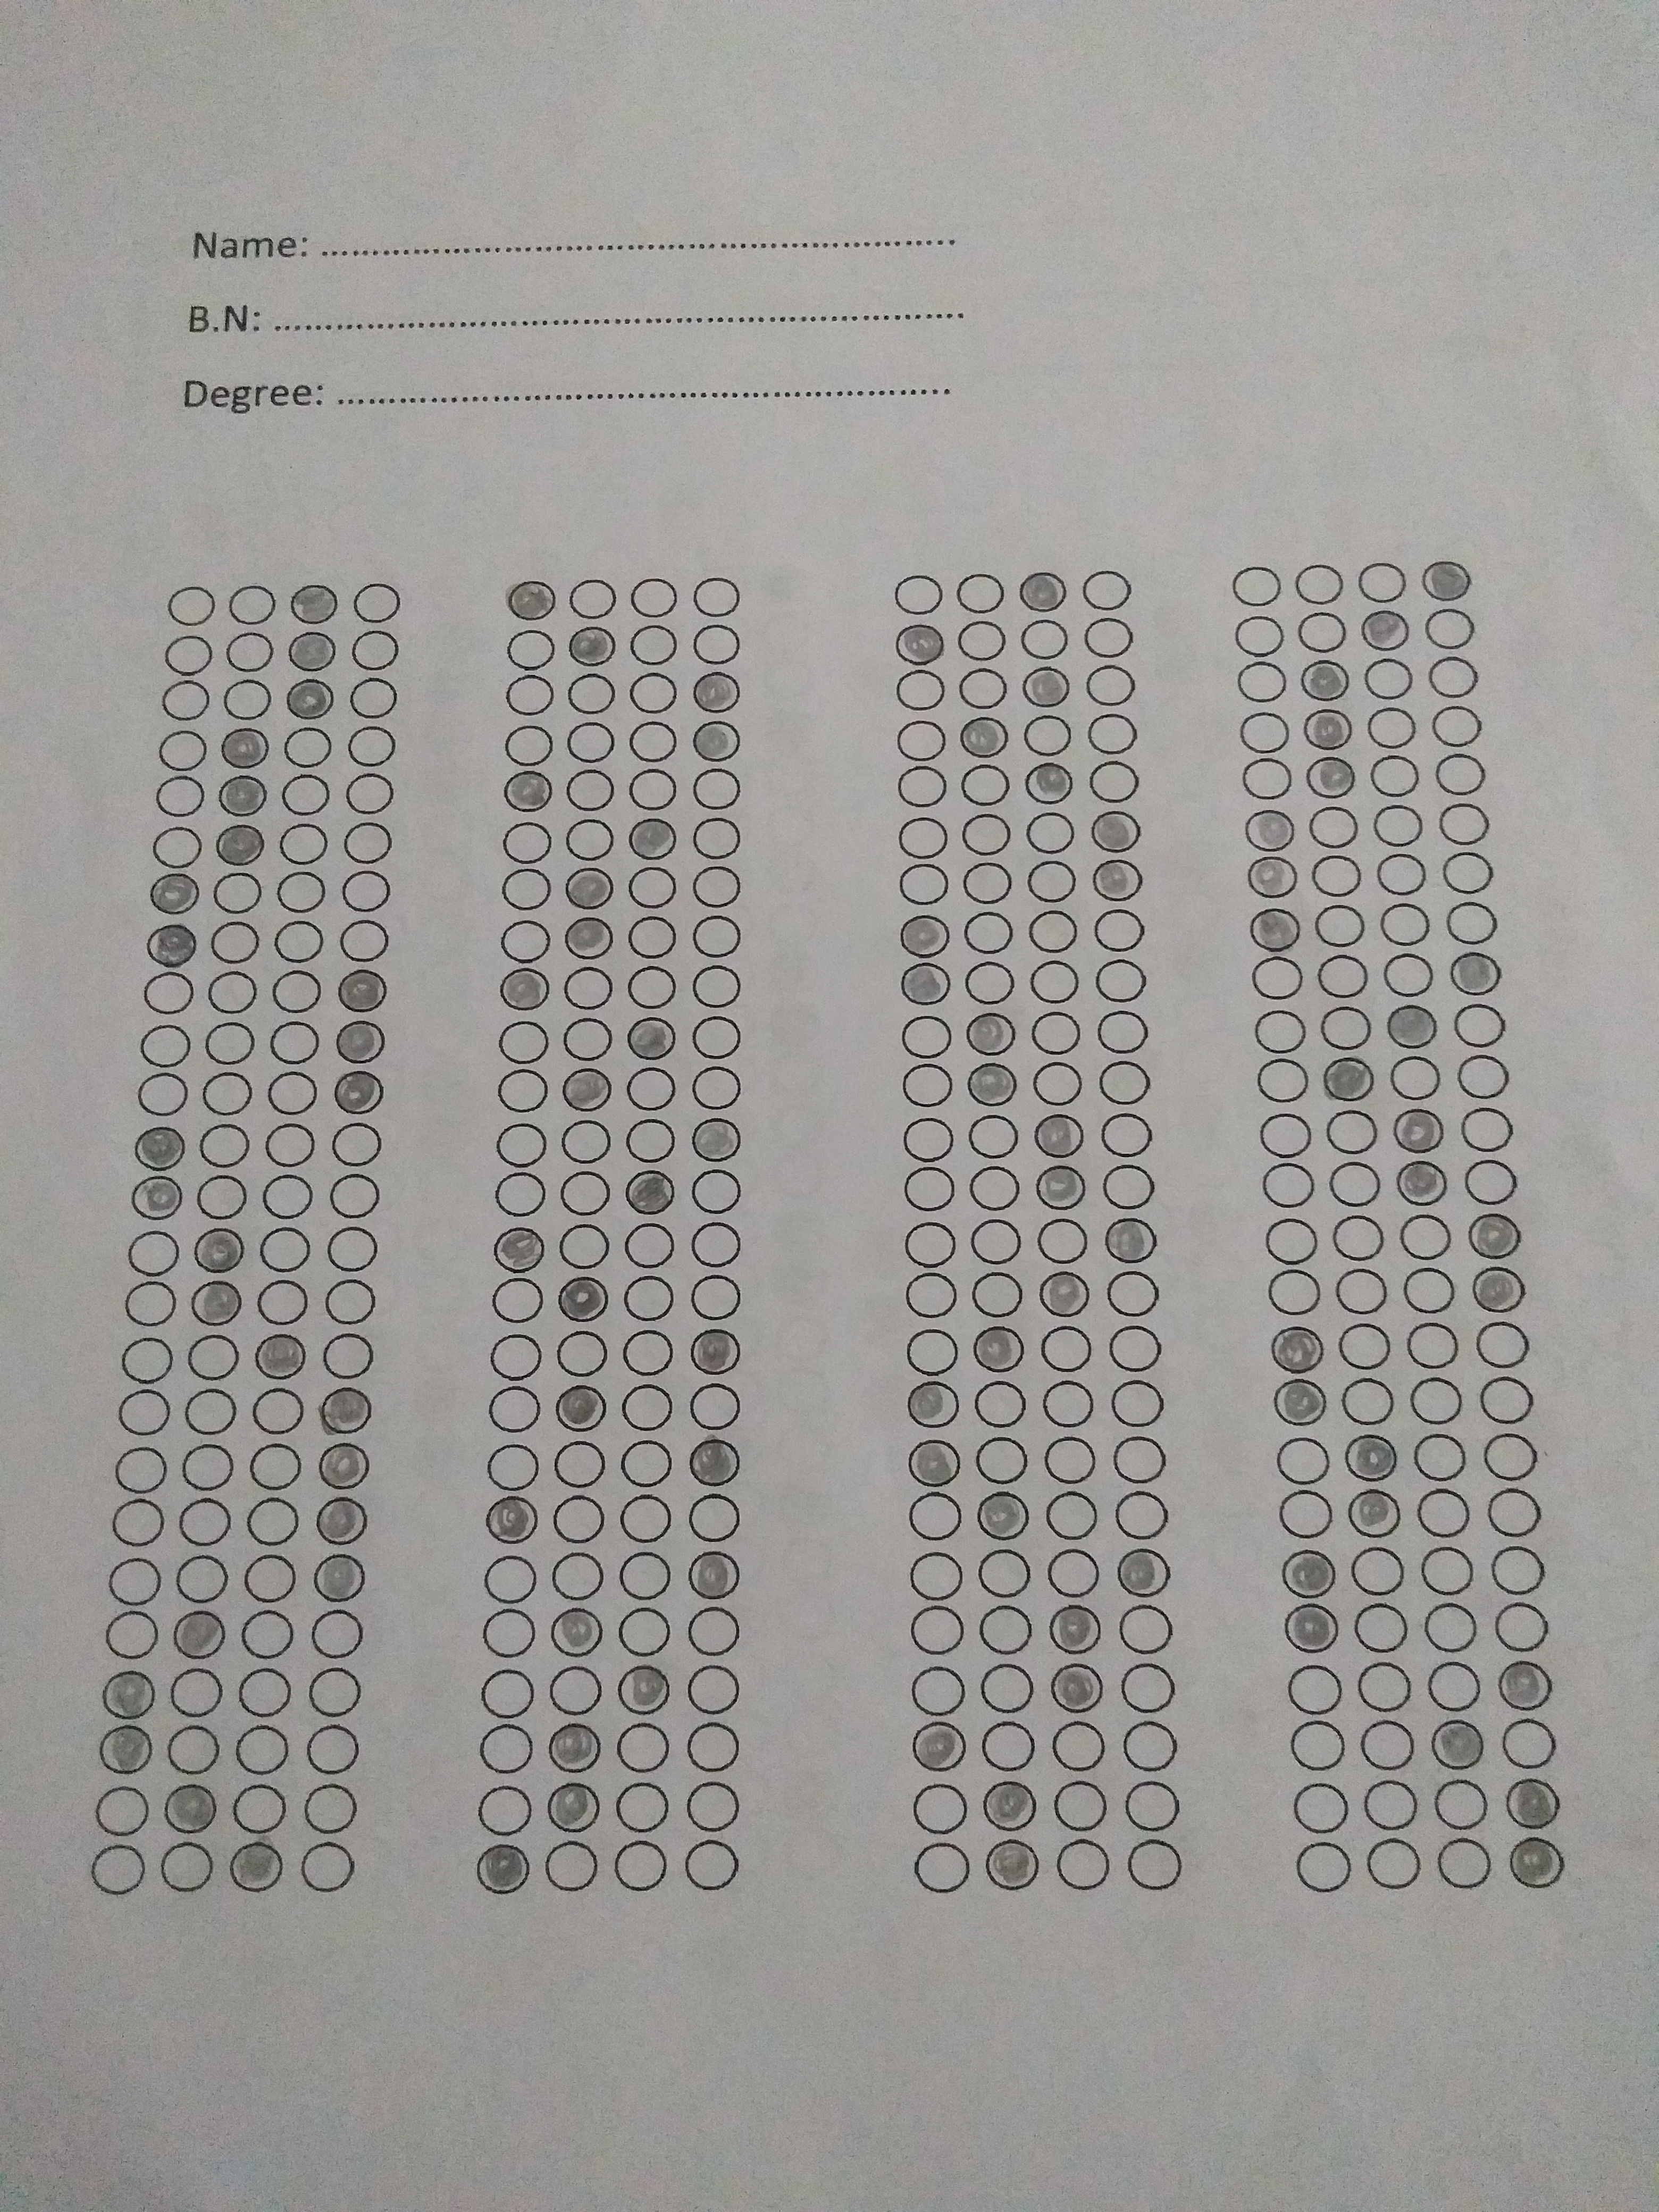not-c: (681, 1839, 742, 1898), (681, 1778, 744, 1834), (540, 1838, 603, 1893), (477, 1608, 537, 1662), (477, 1723, 537, 1777), (687, 1491, 742, 1547), (615, 1545, 671, 1601), (613, 1780, 671, 1834), (911, 1841, 971, 1893), (477, 1669, 540, 1717), (687, 1606, 742, 1660), (549, 1662, 605, 1716), (685, 1662, 741, 1716), (685, 1721, 742, 1773), (620, 1437, 676, 1489), (1127, 1838, 1183, 1890), (1436, 1777, 1488, 1832), (1366, 1838, 1422, 1890), (157, 1843, 216, 1892), (112, 1444, 171, 1493), (247, 1386, 307, 1435), (117, 1386, 176, 1435), (319, 1331, 378, 1379), (183, 1331, 242, 1379), (118, 1336, 178, 1385), (258, 1226, 317, 1275), (122, 1231, 181, 1280), (328, 1169, 387, 1217), (167, 1667, 227, 1716), (307, 1609, 366, 1658), (235, 1609, 295, 1658), (101, 1611, 160, 1660), (239, 1554, 298, 1602), (171, 1554, 230, 1602), (105, 1555, 164, 1604), (242, 1496, 301, 1545), (174, 1496, 234, 1545), (108, 1496, 167, 1545), (162, 1726, 221, 1775), (303, 1667, 362, 1716), (234, 1667, 293, 1716), (301, 1784, 361, 1832), (89, 1785, 148, 1834), (301, 1726, 361, 1775), (89, 1844, 148, 1893), (547, 1554, 606, 1602), (479, 1782, 532, 1836), (613, 1841, 667, 1893), (911, 1665, 965, 1717), (981, 1719, 1035, 1771), (1053, 1719, 1105, 1773), (1054, 1780, 1108, 1832), (1351, 1545, 1405, 1597), (1420, 1543, 1474, 1595), (1288, 1663, 1342, 1716), (1361, 1719, 1415, 1771), (1502, 1717, 1556, 1770), (1363, 1778, 1417, 1831), (551, 1494, 606, 1545), (978, 1602, 1033, 1653), (1478, 1374, 1534, 1425), (1490, 1545, 1546, 1595), (1493, 1602, 1549, 1653), (1356, 1662, 1412, 1712), (1290, 1721, 1345, 1771), (1293, 1782, 1349, 1832), (1436, 1838, 1492, 1888), (1295, 1841, 1351, 1892), (178, 1440, 235, 1489), (122, 1280, 179, 1329), (254, 1278, 312, 1327), (183, 1386, 242, 1433), (321, 1277, 380, 1324), (244, 1442, 303, 1489), (228, 1784, 288, 1831), (230, 1728, 289, 1775), (298, 1843, 357, 1890), (981, 1662, 1033, 1714), (619, 1608, 673, 1658), (1115, 1489, 1169, 1540), (1119, 1602, 1173, 1653), (1121, 1663, 1175, 1714), (1122, 1721, 1176, 1771), (913, 1784, 967, 1834), (1126, 1780, 1180, 1831), (1056, 1839, 1110, 1890), (1279, 1489, 1333, 1540), (1415, 1487, 1469, 1538), (1486, 1487, 1540, 1538), (491, 1123, 551, 1169), (688, 1221, 748, 1266), (552, 1223, 612, 1268), (490, 1172, 549, 1217), (483, 1386, 542, 1432), (617, 1494, 669, 1545), (484, 1554, 537, 1604), (1047, 1547, 1100, 1597), (1485, 1430, 1537, 1480), (1429, 1660, 1480, 1712), (509, 625, 563, 674), (908, 1491, 962, 1540), (911, 1606, 965, 1655), (1399, 1211, 1453, 1259), (1476, 1318, 1530, 1367), (1276, 1435, 1330, 1484), (1424, 1602, 1478, 1651), (1354, 1604, 1408, 1653), (486, 1444, 544, 1489), (558, 1120, 615, 1165), (690, 1064, 748, 1109), (626, 1064, 683, 1109), (491, 1066, 549, 1111), (687, 1015, 744, 1061), (563, 1019, 620, 1064), (619, 1275, 676, 1320), (486, 1278, 544, 1324), (620, 1223, 678, 1268), (687, 1167, 744, 1212), (554, 1170, 612, 1216), (619, 1118, 676, 1163), (687, 1383, 744, 1428), (613, 1385, 671, 1430), (554, 1331, 612, 1376), (486, 1334, 544, 1379), (683, 1273, 741, 1318), (342, 770, 401, 813), (336, 869, 396, 913), (207, 869, 267, 913), (148, 826, 207, 869), (263, 968, 322, 1012), (324, 1122, 383, 1165), (261, 1123, 321, 1167), (192, 1123, 251, 1167), (556, 1439, 606, 1489), (629, 573, 681, 622), (1108, 1324, 1161, 1372), (1044, 1435, 1096, 1484), (1114, 1435, 1166, 1484), (1046, 1491, 1098, 1540), (910, 1552, 962, 1601), (978, 1548, 1030, 1597), (1267, 1268, 1319, 1317), (1406, 1320, 1459, 1369), (1410, 1376, 1462, 1425), (166, 582, 220, 629), (345, 721, 399, 768), (225, 629, 279, 676), (349, 580, 403, 627), (228, 580, 282, 627), (688, 575, 742, 622), (974, 1437, 1028, 1484), (1403, 1266, 1457, 1313), (613, 1724, 669, 1770), (267, 918, 324, 961), (134, 1071, 192, 1115), (493, 1021, 551, 1064), (620, 1331, 678, 1374), (331, 921, 390, 963), (206, 921, 265, 963), (268, 871, 328, 913), (338, 820, 397, 862), (274, 824, 333, 866), (200, 1071, 260, 1113), (263, 1022, 322, 1064), (200, 1022, 260, 1064), (136, 1026, 195, 1068), (202, 970, 261, 1012), (136, 972, 195, 1014), (324, 1228, 383, 1270), (195, 1176, 254, 1217), (260, 1073, 319, 1115), (971, 1217, 1021, 1266), (1333, 1212, 1384, 1261), (1415, 1432, 1466, 1480), (152, 773, 204, 820), (282, 723, 335, 770), (349, 627, 401, 674), (566, 575, 619, 622), (1101, 1163, 1154, 1211), (1037, 1217, 1089, 1264), (1107, 1270, 1159, 1317), (1040, 1325, 1093, 1372), (974, 1381, 1026, 1428), (1112, 1379, 1164, 1426), (1389, 1054, 1441, 1101), (1265, 1217, 1317, 1264), (1335, 1268, 1387, 1315), (1342, 1378, 1394, 1425), (688, 965, 742, 1010), (622, 965, 676, 1010), (688, 913, 742, 958), (627, 916, 681, 961), (1464, 1158, 1518, 1204), (1337, 1324, 1391, 1369), (260, 1176, 317, 1217), (906, 1221, 957, 1268), (908, 1327, 958, 1374), (1042, 1379, 1093, 1426), (1260, 1111, 1310, 1158), (626, 864, 678, 909), (563, 963, 615, 1008), (502, 869, 554, 914), (1251, 956, 1303, 1001), (1382, 951, 1434, 996), (1256, 1057, 1309, 1103), (1460, 1106, 1513, 1151), (1262, 1162, 1314, 1207), (1328, 1162, 1380, 1207), (159, 679, 213, 723), (1100, 1113, 1154, 1157), (1441, 850, 1495, 894), (687, 624, 742, 665), (1380, 900, 1429, 948), (349, 674, 399, 719), (1096, 958, 1147, 1003), (904, 1165, 955, 1211), (969, 1165, 1019, 1211), (906, 1273, 957, 1318), (972, 1271, 1023, 1317), (1317, 953, 1368, 998), (1453, 1001, 1504, 1047), (162, 634, 214, 678), (498, 920, 551, 963), (1096, 1010, 1148, 1054), (1098, 1061, 1150, 1104), (1439, 801, 1492, 845), (1319, 1007, 1371, 1050), (1457, 1054, 1509, 1097), (1326, 1109, 1378, 1153), (563, 674, 617, 716), (622, 672, 678, 712), (500, 676, 556, 716), (688, 817, 744, 857), (561, 819, 617, 859), (1309, 805, 1358, 850), (1089, 759, 1140, 803), (897, 815, 948, 859), (897, 862, 948, 906), (964, 911, 1014, 954), (901, 1015, 951, 1059), (1030, 1010, 1080, 1054), (903, 1118, 953, 1162), (967, 1115, 1018, 1158), (1373, 803, 1424, 846), (1255, 1010, 1305, 1054), (157, 730, 209, 772), (500, 822, 552, 864), (1244, 810, 1297, 852), (1314, 904, 1366, 946), (626, 625, 680, 665), (559, 770, 613, 810), (624, 721, 678, 761), (559, 723, 613, 763), (498, 725, 552, 765), (688, 867, 742, 907), (688, 770, 742, 810), (622, 768, 676, 808), (282, 775, 331, 819), (962, 860, 1011, 904), (1028, 909, 1077, 953), (965, 961, 1014, 1005), (1030, 960, 1079, 1003), (1033, 1062, 1082, 1106), (1436, 752, 1485, 796), (1377, 852, 1425, 895), (1446, 900, 1495, 944), (894, 573, 945, 615), (1021, 714, 1072, 756), (897, 719, 948, 761), (896, 669, 946, 711), (962, 813, 1012, 855), (1094, 909, 1145, 951), (903, 1064, 953, 1106), (1310, 855, 1361, 897), (962, 763, 1009, 806), (1087, 712, 1136, 754), (1019, 618, 1068, 660), (1358, 563, 1406, 604), (1234, 615, 1283, 657), (1297, 611, 1345, 653), (1241, 711, 1290, 752), (1370, 754, 1419, 796), (1243, 758, 1291, 799), (1368, 707, 1417, 749), (1431, 705, 1480, 747), (1429, 655, 1478, 697), (1236, 660, 1284, 702), (953, 573, 1004, 613), (958, 667, 1009, 707), (1026, 812, 1073, 853), (1028, 860, 1075, 902), (1295, 563, 1342, 604), (897, 766, 946, 806), (1086, 665, 1134, 705), (1084, 617, 1133, 657), (957, 620, 1006, 660), (1082, 570, 1131, 610), (1232, 566, 1281, 606), (1425, 610, 1474, 650), (1363, 658, 1412, 698)
taken-c: (985, 1832, 1042, 1890), (910, 1717, 969, 1773), (1046, 1601, 1107, 1655), (1507, 1834, 1568, 1888), (547, 1604, 605, 1660), (1495, 1658, 1554, 1712), (1283, 1599, 1342, 1653), (173, 1606, 228, 1662), (162, 1782, 220, 1836), (1506, 1777, 1563, 1831), (228, 1841, 288, 1893), (99, 1723, 155, 1777), (1429, 1717, 1485, 1771), (1270, 1324, 1326, 1378), (310, 1550, 368, 1602), (979, 1778, 1037, 1831), (1272, 1376, 1330, 1428), (1279, 1548, 1338, 1599), (1345, 1487, 1405, 1538), (1342, 1432, 1401, 1482), (474, 1843, 530, 1895), (615, 1663, 671, 1716), (687, 1547, 742, 1599), (906, 1378, 962, 1430), (908, 1435, 964, 1487), (1117, 1545, 1173, 1597), (1473, 1263, 1528, 1315), (484, 1494, 542, 1545), (976, 1491, 1033, 1541), (1446, 948, 1504, 998), (1101, 1216, 1161, 1264), (1467, 1212, 1528, 1259), (190, 1277, 244, 1329), (545, 1784, 601, 1834), (1394, 1157, 1452, 1205), (549, 1721, 601, 1773), (688, 1437, 742, 1487), (972, 1324, 1026, 1374), (317, 1385, 373, 1433), (314, 1496, 369, 1545), (688, 1327, 744, 1376), (556, 1273, 612, 1322), (896, 960, 951, 1008), (1030, 1111, 1086, 1160), (1033, 1162, 1089, 1211), (1051, 1663, 1107, 1712), (1391, 1104, 1446, 1153), (145, 920, 199, 968), (129, 1174, 183, 1223), (1039, 1270, 1093, 1318), (1323, 1054, 1377, 1103), (131, 1123, 186, 1170), (192, 1226, 247, 1273), (253, 1332, 308, 1379), (103, 1672, 159, 1719), (964, 1059, 1019, 1106), (216, 770, 268, 819), (216, 819, 268, 867), (335, 1015, 387, 1064), (692, 669, 744, 718), (1023, 759, 1075, 808), (333, 1068, 387, 1115), (317, 1442, 371, 1489), (622, 1167, 676, 1214), (892, 622, 946, 669), (899, 911, 953, 958), (1091, 808, 1145, 855), (1385, 1000, 1439, 1047), (1243, 808, 1298, 853), (336, 967, 389, 1014), (1248, 906, 1300, 953), (1246, 853, 1298, 900), (1302, 707, 1354, 754), (148, 871, 202, 916), (554, 1386, 608, 1432), (1303, 756, 1358, 801), (1419, 559, 1473, 604), (692, 1115, 741, 1163), (563, 1068, 613, 1115), (493, 1228, 545, 1273), (627, 1015, 680, 1061), (502, 768, 554, 813), (1093, 857, 1145, 902), (1359, 606, 1412, 651), (498, 968, 552, 1012), (563, 867, 617, 911), (1018, 571, 1072, 615), (629, 817, 680, 862), (965, 1012, 1016, 1057), (286, 629, 338, 672), (282, 679, 335, 723), (958, 714, 1011, 758), (1298, 658, 1351, 702), (504, 578, 558, 620), (566, 914, 615, 960), (289, 583, 340, 627), (568, 624, 619, 667), (1021, 665, 1072, 709), (694, 718, 742, 761), (220, 728, 272, 768)
